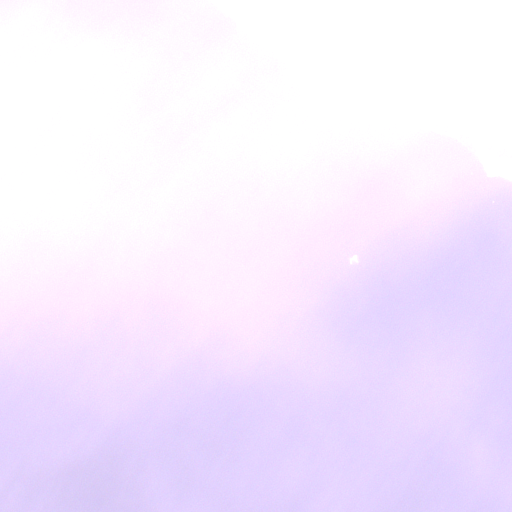Iceberg: (350, 255, 358, 263)
